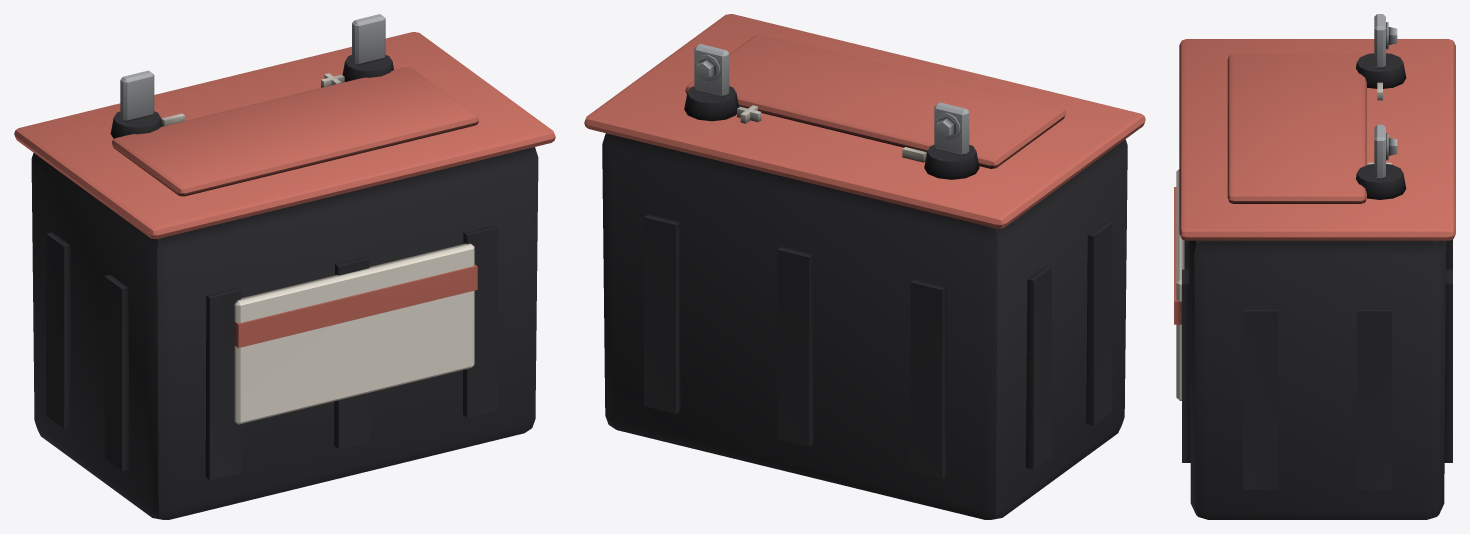
The model's file is bat_moto.glb.
3 renders of one model, left to right at view 1: azimuth 30°, elevation 25°; view 2: azimuth 150°, elevation 25°; view 3: azimuth 270°, elevation 25°, orthographic. The views are drawn at different scales.
Visible parts, largest first — view 1: PART; view 2: PART; view 3: PART.
Boxes of the visible parts, left/top/right/bottom form: PART: left=14, top=14, right=555, bottom=519; PART: left=584, top=14, right=1145, bottom=519; PART: left=1174, top=14, right=1455, bottom=519.
Size of the model in its own units: 0.158 by 0.136 by 0.0967.
